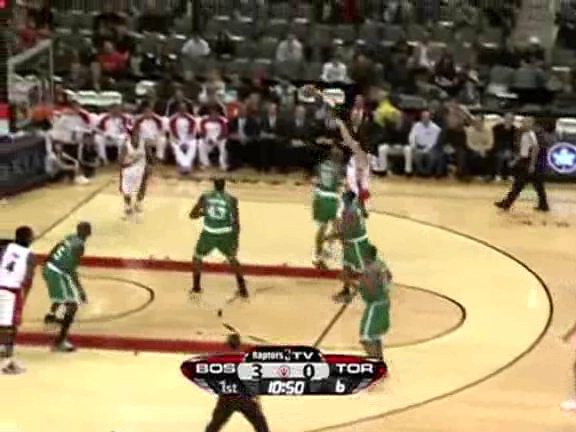person: (339, 200, 373, 281), (338, 200, 372, 281), (340, 200, 374, 281), (339, 199, 373, 280), (339, 201, 373, 282)
target_negative: (479, 69, 541, 319), (386, 191, 458, 386), (367, 199, 415, 407), (17, 402, 282, 418), (209, 328, 322, 347), (504, 358, 508, 372)
